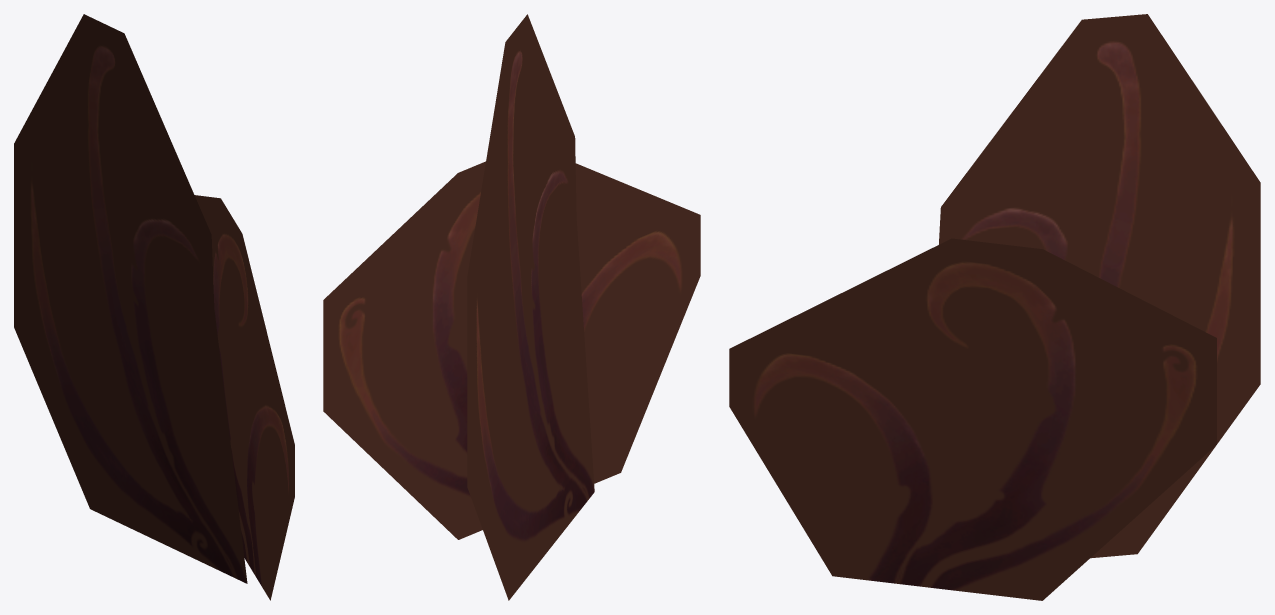
Rendered from plant10.fbx.
3 views of the same model, side by side, from view 1: azimuth 30°, elevation 25°; view 2: azimuth 150°, elevation 25°; view 3: azimuth 270°, elevation 25° (orthographic). The views are drawn at different scales.
Parts seen in each view (by area): view 1: plant10; view 2: plant10; view 3: plant10.
Part boxes in pixels (box(x1,y1,x2,y2)): plant10: box(14, 14, 294, 600); plant10: box(323, 14, 700, 600); plant10: box(729, 14, 1260, 600).
Size of the model in its own units: 40.71 by 131 by 117.
